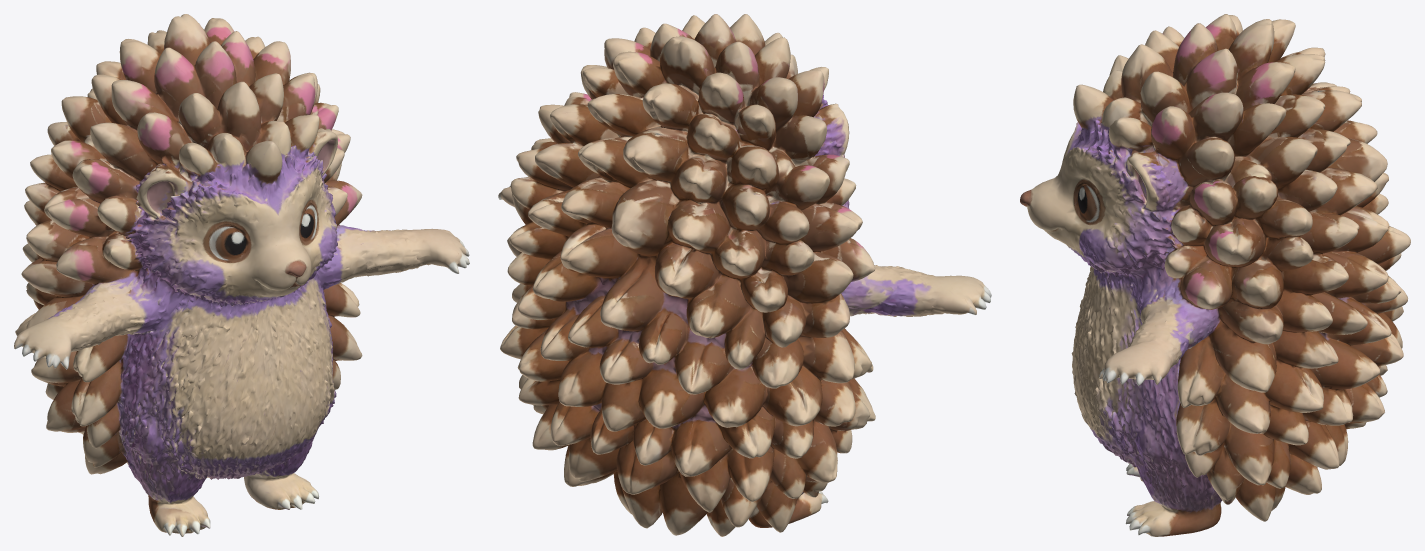
The model's file is Hedgehog.obj.
The picture shows the model from 3 angles, left to right: view 1: azimuth 30°, elevation 25°; view 2: azimuth 150°, elevation 25°; view 3: azimuth 270°, elevation 25°; orthographic projection. The views are drawn at different scales.
Visible parts, largest first — view 1: surface_8; view 2: surface_8; view 3: surface_8.
Boxes of the visible parts, left/top/right/bottom form: surface_8: left=14, top=14, right=469, bottom=536; surface_8: left=498, top=14, right=991, bottom=536; surface_8: left=1020, top=14, right=1410, bottom=536.
Bounding box in the file's own units: 0.9981 × 1 × 0.734.
1 material, 1 textured.
